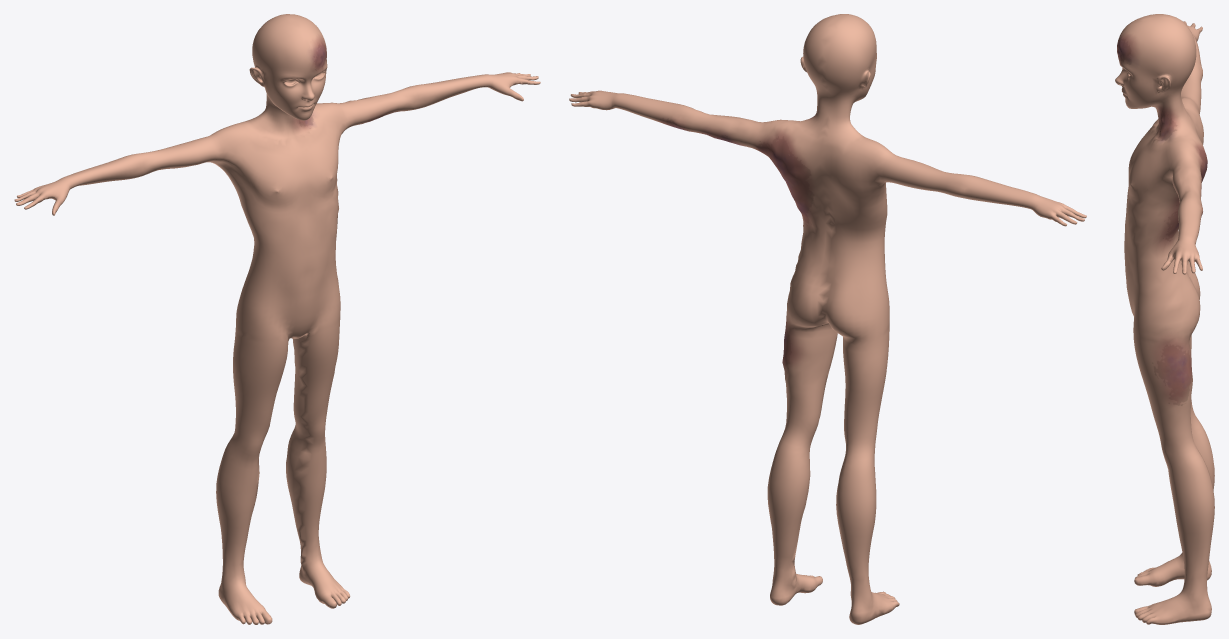
File: Child.glb
3 views of the same model, side by side, from view 1: azimuth 30°, elevation 25°; view 2: azimuth 150°, elevation 25°; view 3: azimuth 270°, elevation 25° (orthographic).
Parts seen in each view (by area): view 1: Object_2; view 2: Object_2; view 3: Object_2.
Boxes of the visible parts, x1=… form: Object_2: x1=14, y1=14, x2=540, y2=624; Object_2: x1=569, y1=14, x2=1086, y2=624; Object_2: x1=1115, y1=14, x2=1214, y2=624.
Size of the model in its own units: 1.48 by 1.6 by 0.2477.
1 material, 1 textured.
